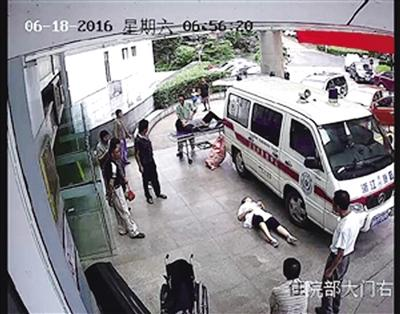10+: (92, 75, 398, 314)
down: (234, 193, 301, 249)
